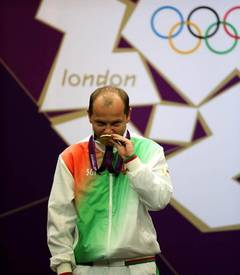face: (91, 99, 125, 145)
